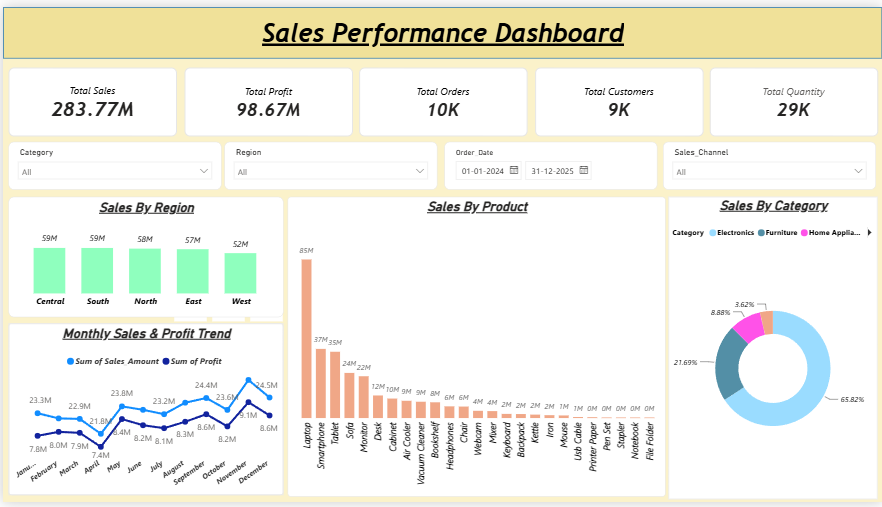

The page's visual inventory and layout, read from the dashboard file:
{"tool":"powerbi","page":{"name":"Page 1","canvas":[1280,720],"ordinal":0},"visuals":[{"type":"shape","box":[0,0,1280.3,75],"z":0},{"type":"cardVisual","fields":{"Data":["Measures Table.Total Sales"]},"box":[8,88,245,100],"z":1000},{"type":"cardVisual","fields":{"Data":["Measures Table.Total Profit"]},"box":[263,88,245,100],"z":2000},{"type":"cardVisual","fields":{"Data":["Measures Table.Total Orders"]},"box":[518,88,245,100],"z":3000},{"type":"cardVisual","fields":{"Data":["Measures Table.Total Quantity"]},"box":[1028,88,245,100],"z":4000},{"type":"cardVisual","fields":{"Data":["Measures Table.Total Customers"]},"box":[773,88,245,100],"z":5000},{"type":"lineChart","title":"Monthly Sales & Profit Trend","fields":{"Y":["Sum(cleaned_sales_data.Sales_Amount)"],"Y2":["Sum(cleaned_sales_data.Profit)"],"Category":["cleaned_sales_data.Order_Date.Variation.Date Hierarchy.Month"]},"box":[8,460,400,250],"z":6000},{"type":"clusteredColumnChart","title":"Sales By Region","fields":{"Category":["cleaned_sales_data.Region"],"Y":["Sum(cleaned_sales_data.Sales_Amount)"]},"box":[8,275,400,175],"z":7000},{"type":"donutChart","title":"Sales By Category","fields":{"Category":["cleaned_sales_data.Category"],"Y":["Sum(cleaned_sales_data.Sales_Amount)"]},"box":[968,275,304,440],"z":8000},{"type":"clusteredColumnChart","title":"Sales By Product","fields":{"Category":["cleaned_sales_data.Product"],"Y":["Sum(cleaned_sales_data.Sales_Amount)"]},"box":[413,275,550,436],"z":9000},{"type":"slicer","fields":{"Values":["cleaned_sales_data.Order_Date"]},"box":[641,195,310,70],"z":10000},{"type":"slicer","fields":{"Values":["cleaned_sales_data.Region"]},"box":[322,195,310,70],"z":11000},{"type":"slicer","fields":{"Values":["cleaned_sales_data.Category"]},"box":[8,195,310,70],"z":12000},{"type":"slicer","fields":{"Values":["cleaned_sales_data.Sales_Channel"]},"box":[960,195,310,70],"z":13000}]}

Visuals, with their boxes in screenshot pixels (x1, y1, x2, y2), scaled from the page's 1280x720 canvas onto the 882x507 screenshot:
shape: crop(0, 0, 881, 53)
cardVisual - Measures Table.Total Sales: crop(6, 62, 174, 132)
cardVisual - Measures Table.Total Profit: crop(181, 62, 350, 132)
cardVisual - Measures Table.Total Orders: crop(357, 62, 526, 132)
cardVisual - Measures Table.Total Quantity: crop(708, 62, 877, 132)
cardVisual - Measures Table.Total Customers: crop(533, 62, 701, 132)
"Monthly Sales & Profit Trend" lineChart: crop(6, 324, 281, 500)
"Sales By Region" clusteredColumnChart: crop(6, 194, 281, 317)
"Sales By Category" donutChart: crop(667, 194, 876, 503)
"Sales By Product" clusteredColumnChart: crop(285, 194, 664, 501)
slicer - cleaned_sales_data.Order_Date: crop(442, 137, 655, 187)
slicer - cleaned_sales_data.Region: crop(222, 137, 435, 187)
slicer - cleaned_sales_data.Category: crop(6, 137, 219, 187)
slicer - cleaned_sales_data.Sales_Channel: crop(662, 137, 875, 187)
